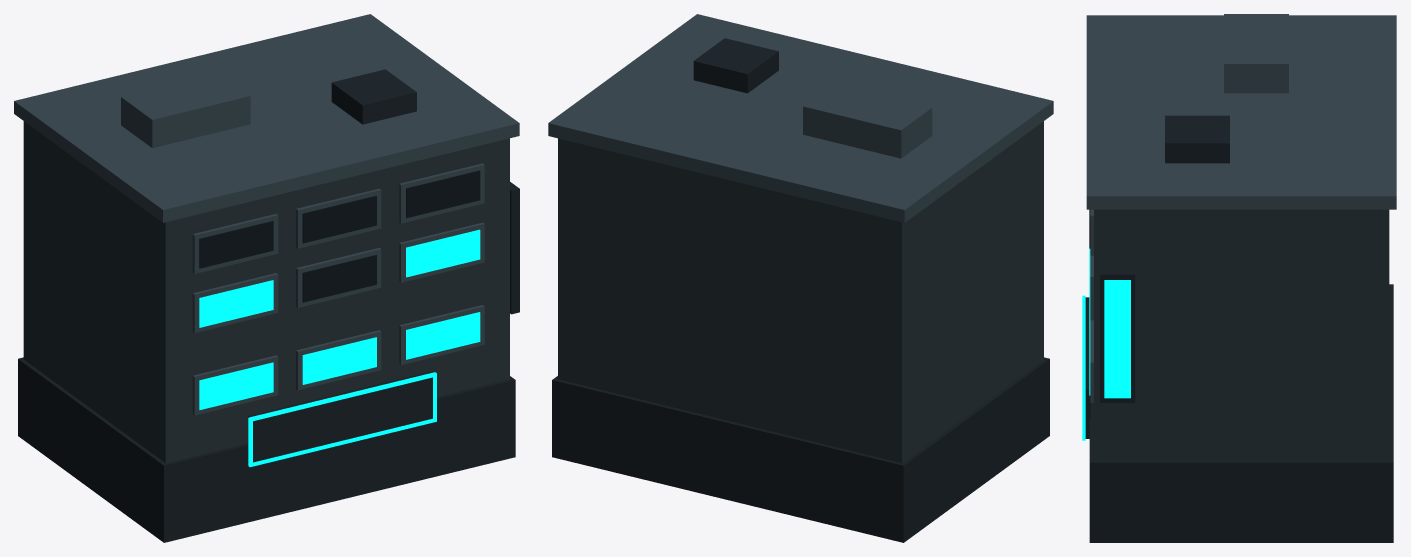
The model's file is edificio_b.glb.
3 renders of one model, left to right at view 1: azimuth 30°, elevation 25°; view 2: azimuth 150°, elevation 25°; view 3: azimuth 270°, elevation 25°, orthographic. The views are drawn at different scales.
Parts seen in each view (by area): view 1: Edificio_B; view 2: Edificio_B; view 3: Edificio_B.
Boxes of the visible parts, box(x1,y1,x2,y2) form: Edificio_B: box(14, 14, 519, 542); Edificio_B: box(548, 14, 1053, 542); Edificio_B: box(1082, 14, 1396, 542).
Bounding box in the file's own units: 14.82 × 14.1 × 10.65.
